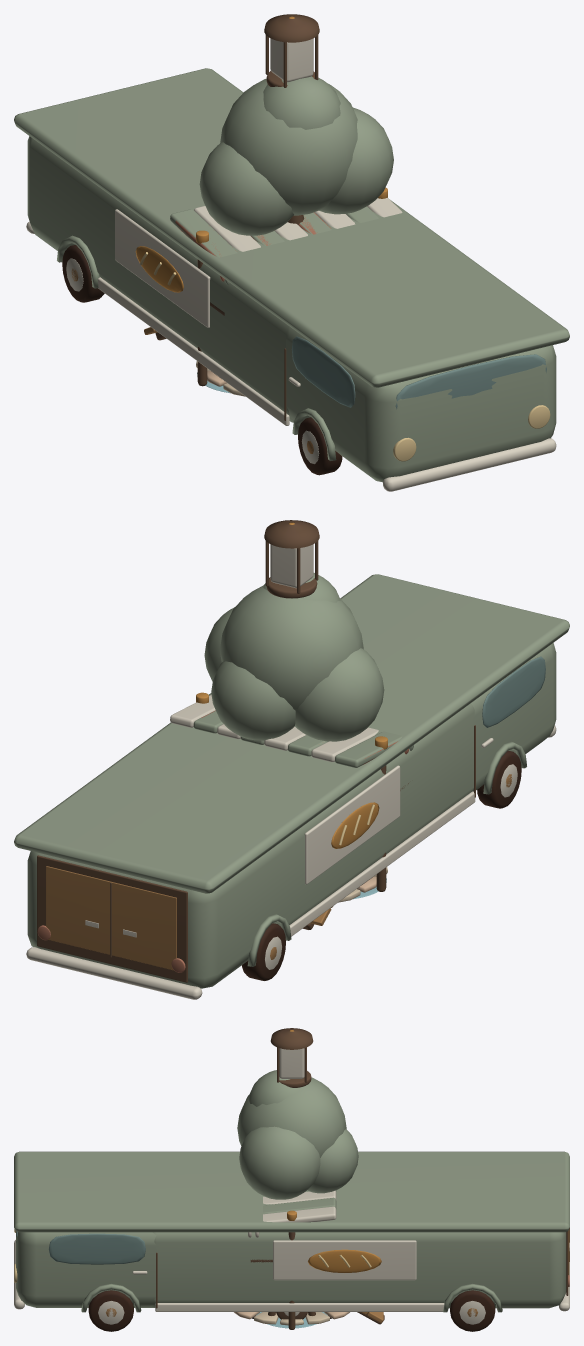
File: props.glb
The picture shows the model from 3 angles, top to bottom: view 1: azimuth 30°, elevation 25°; view 2: azimuth 150°, elevation 25°; view 3: azimuth 270°, elevation 25°; orthographic projection. The views are drawn at different scales.
Visible parts, largest first — view 1: vanMesh, treeMesh, cartMesh, lampMesh; view 2: vanMesh, treeMesh, cartMesh, lampMesh; view 3: vanMesh, treeMesh, cartMesh, lampMesh, potholeMesh.
Part boxes in pixels (bbox=[...]): vanMesh: bbox=[14, 68, 569, 491]; treeMesh: bbox=[199, 76, 393, 235]; cartMesh: bbox=[170, 187, 402, 386]; lampMesh: bbox=[264, 14, 319, 87]; vanMesh: bbox=[14, 574, 569, 999]; treeMesh: bbox=[204, 573, 384, 741]; cartMesh: bbox=[170, 692, 413, 891]; lampMesh: bbox=[264, 520, 319, 598]; vanMesh: bbox=[14, 1151, 569, 1331]; treeMesh: bbox=[237, 1070, 358, 1199]; cartMesh: bbox=[248, 1190, 336, 1329]; lampMesh: bbox=[270, 1028, 313, 1087]; potholeMesh: bbox=[234, 1312, 349, 1325].
Size of the model in its own units: 1.92 by 3.16 by 6.
